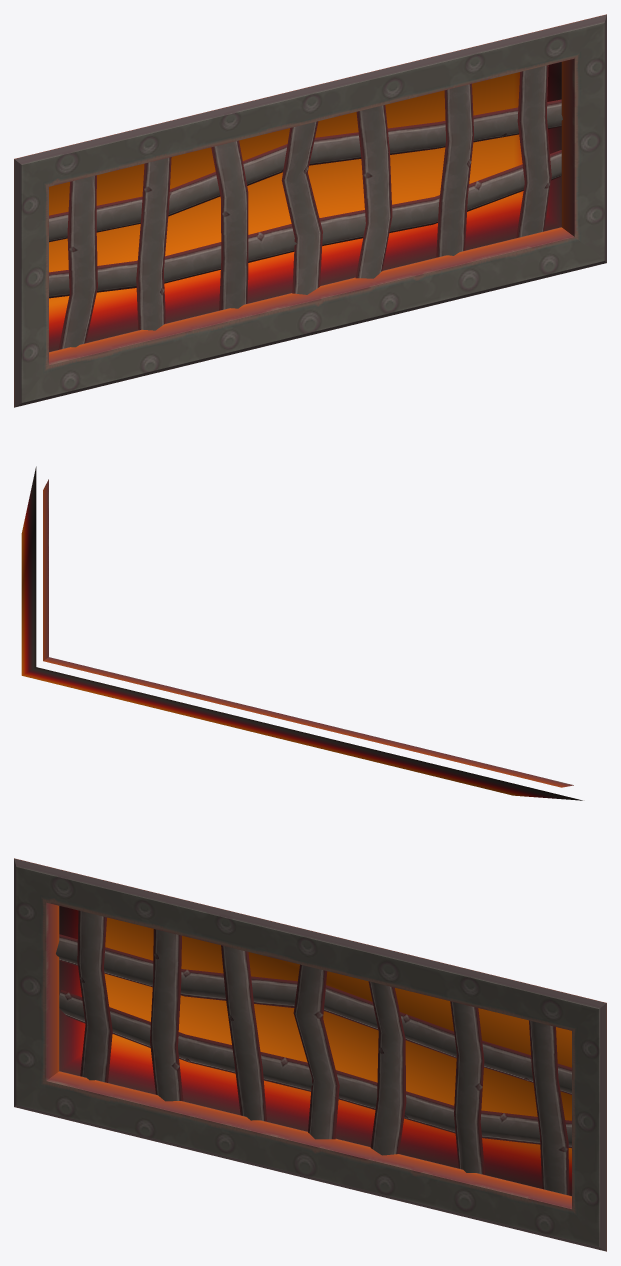
File: tile_5x2.glb
3 views of the same model, one above another, from view 1: azimuth 30°, elevation 25°; view 2: azimuth 150°, elevation 25°; view 3: azimuth 330°, elevation 25° (orthographic).
Parts seen in each view (by area): view 1: flame_grates.tile_5x2-MeshNodes["flame_pit_5x2"], flame_grates.tile_5x2-MeshNodes["flame_pit_5x2_bars"], flame_grates.tile_5x2-MeshNodes["flame_pit_5x2_pit"]; view 2: flame_grates.tile_5x2-MeshNodes["flame_pit_5x2_pit"], flame_grates.tile_5x2-MeshNodes["flame_pit_5x2"]; view 3: flame_grates.tile_5x2-MeshNodes["flame_pit_5x2"], flame_grates.tile_5x2-MeshNodes["flame_pit_5x2_bars"], flame_grates.tile_5x2-MeshNodes["flame_pit_5x2_pit"].
Part boxes in pixels (left/top/right/bottom): flame_grates.tile_5x2-MeshNodes["flame_pit_5x2"]: left=14, top=14, right=606, bottom=407; flame_grates.tile_5x2-MeshNodes["flame_pit_5x2_bars"]: left=49, top=65, right=562, bottom=349; flame_grates.tile_5x2-MeshNodes["flame_pit_5x2_pit"]: left=49, top=62, right=561, bottom=351; flame_grates.tile_5x2-MeshNodes["flame_pit_5x2_pit"]: left=21, top=466, right=582, bottom=800; flame_grates.tile_5x2-MeshNodes["flame_pit_5x2"]: left=43, top=479, right=573, bottom=787; flame_grates.tile_5x2-MeshNodes["flame_pit_5x2"]: left=14, top=858, right=606, bottom=1251; flame_grates.tile_5x2-MeshNodes["flame_pit_5x2_bars"]: left=56, top=910, right=571, bottom=1195; flame_grates.tile_5x2-MeshNodes["flame_pit_5x2_pit"]: left=59, top=906, right=571, bottom=1195.
Size of the model in its own units: 5.01 by 2.01 by 0.6696.
3 materials, 3 textured.
